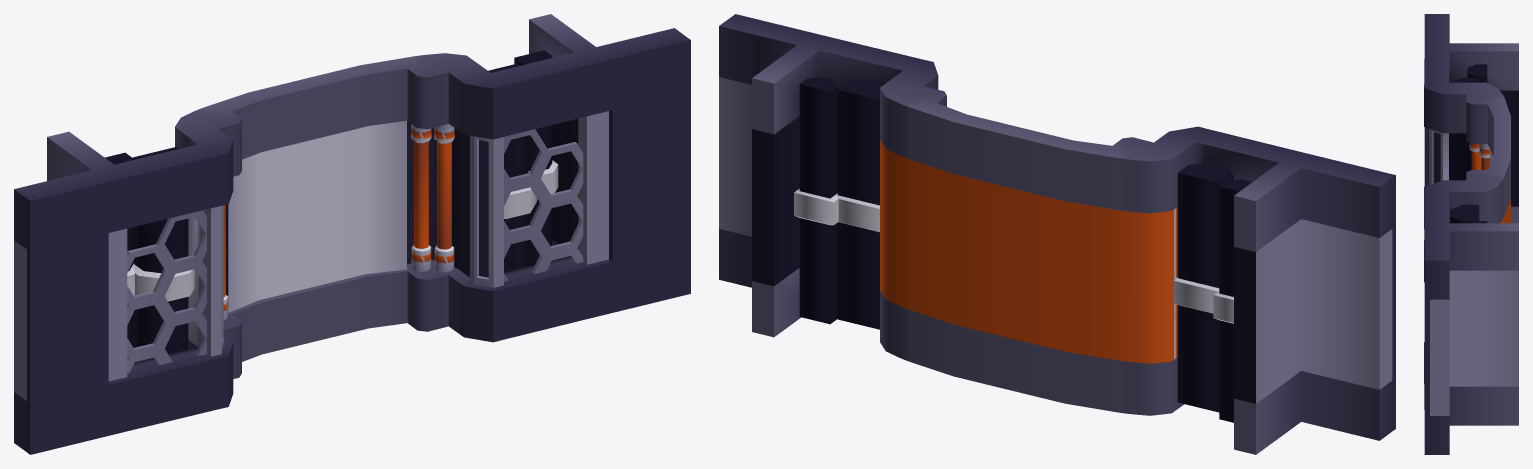
Rendered from Ceiling_2.fbx.
3 renders of one model, left to right at view 1: azimuth 30°, elevation 25°; view 2: azimuth 150°, elevation 25°; view 3: azimuth 270°, elevation 25°, orthographic. The views are drawn at different scales.
Parts seen in each view (by area): view 1: Ceiling_2; view 2: Ceiling_2; view 3: Ceiling_2.
Part boxes in pixels (bbox=[...]): Ceiling_2: bbox=[14, 14, 690, 454]; Ceiling_2: bbox=[719, 14, 1395, 454]; Ceiling_2: bbox=[1424, 14, 1518, 454].
Bounding box in the file's own units: 3.56 × 1.31 × 0.5787.
Materials: 1 (1 with a texture image).
